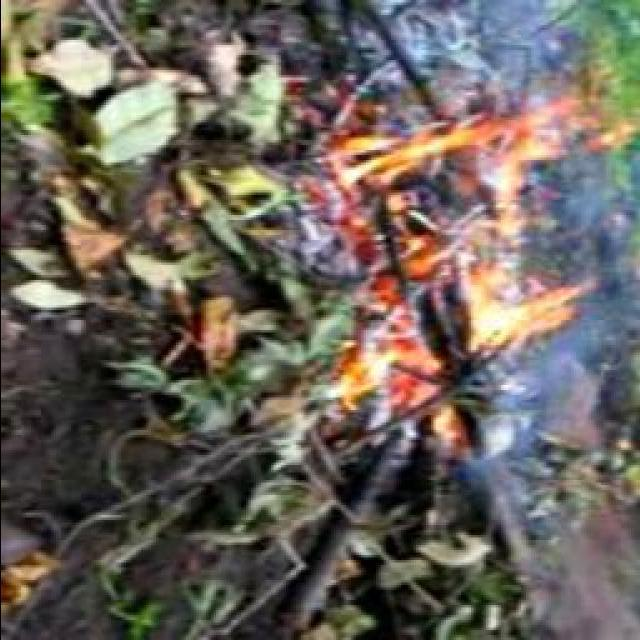Fire: (339, 99, 601, 414)
